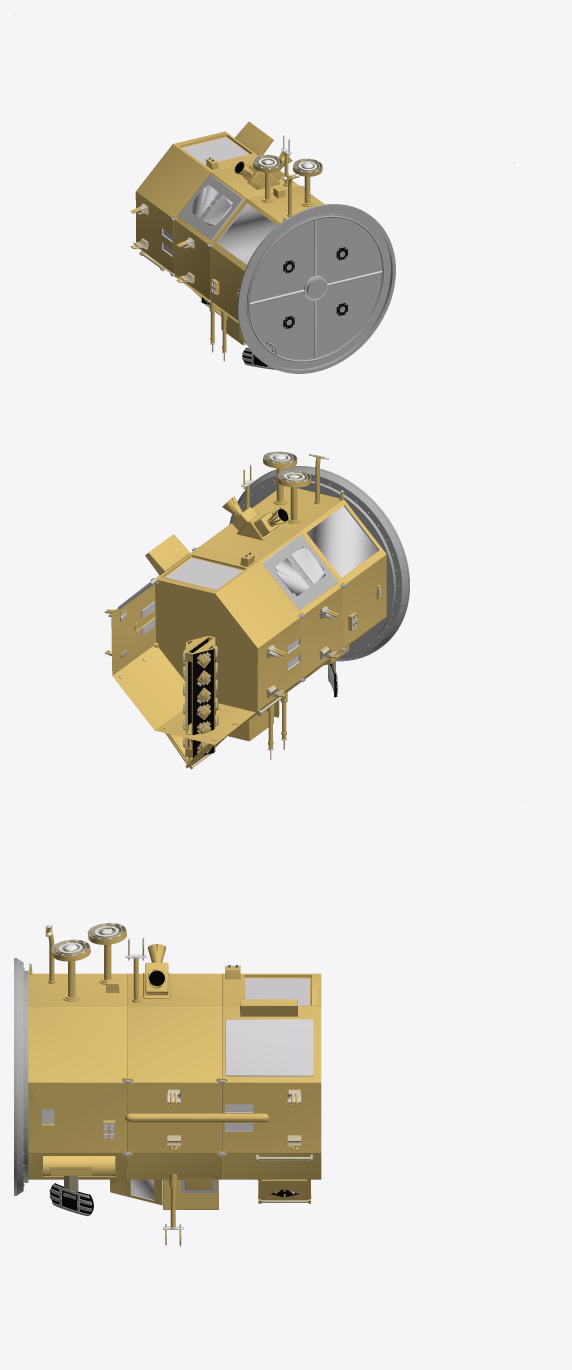
The model's file is SatBase.fbx.
The picture shows the model from 3 angles, top to bottom: view 1: azimuth 30°, elevation 25°; view 2: azimuth 150°, elevation 25°; view 3: azimuth 270°, elevation 25°; orthographic projection. The views are drawn at different scales.
Parts seen in each view (by area): view 1: Layer_0; view 2: Layer_0; view 3: Layer_0.
Part boxes in pixels (x1,y1,x2,y2): Layer_0: (15,14,514,373); Layer_0: (65,438,409,769); Layer_0: (14,923,321,1297).
Size of the model in its own units: 714 by 395 by 544.
